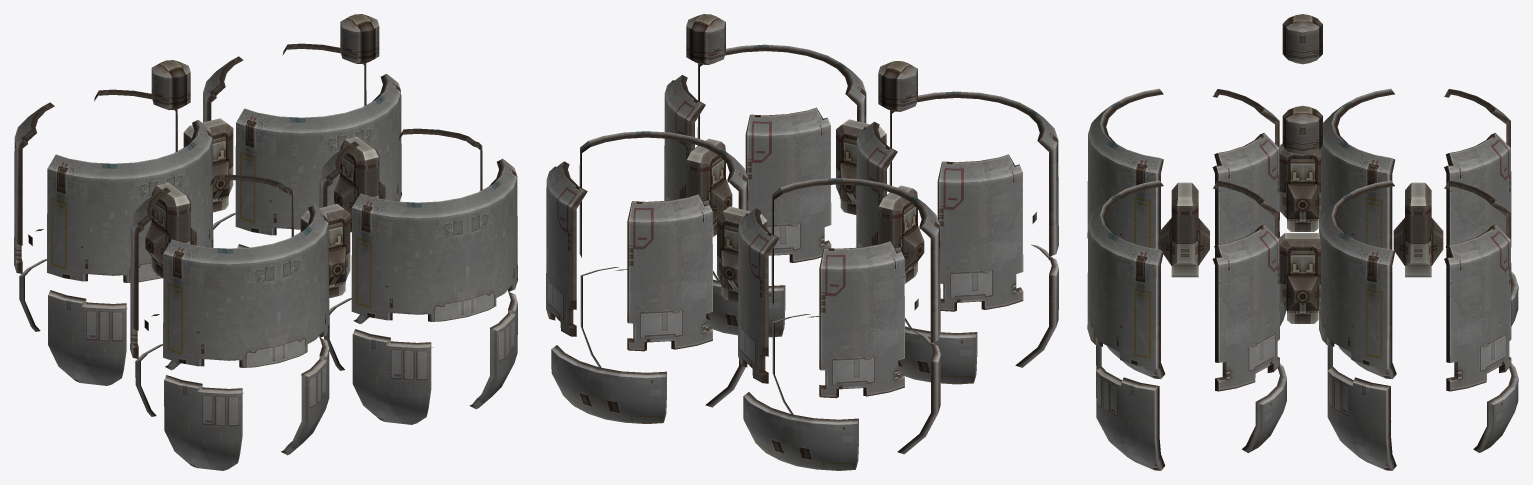
File: prop_static_tr1_container_01_09_0.glb
3 renders of one model, left to right at view 1: azimuth 30°, elevation 25°; view 2: azimuth 150°, elevation 25°; view 3: azimuth 270°, elevation 25°, orthographic. The views are drawn at different scales.
Visible parts, largest first — view 1: tr1_container_01_09_mat01d_LOD0; view 2: tr1_container_01_09_mat01d_LOD0; view 3: tr1_container_01_09_mat01d_LOD0.
Boxes of the visible parts, x1,y1,x2,y2 form: tr1_container_01_09_mat01d_LOD0: (14, 14, 517, 470); tr1_container_01_09_mat01d_LOD0: (546, 14, 1058, 470); tr1_container_01_09_mat01d_LOD0: (1087, 14, 1518, 470).
Size of what is drawn, in the model's own units: 5.62 by 5.14 by 5.97.
Materials: 1 (1 with a texture image).
